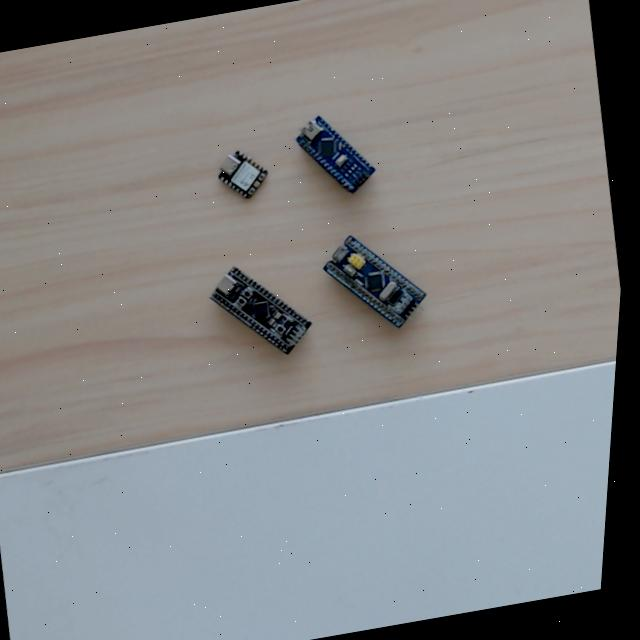Arduino-Nano: (288, 109, 377, 195)
ESP32C3-Xiao: (211, 144, 273, 204)
STM32-Blackpill: (204, 260, 312, 355)
STM32-Bluepill: (317, 227, 428, 330)
